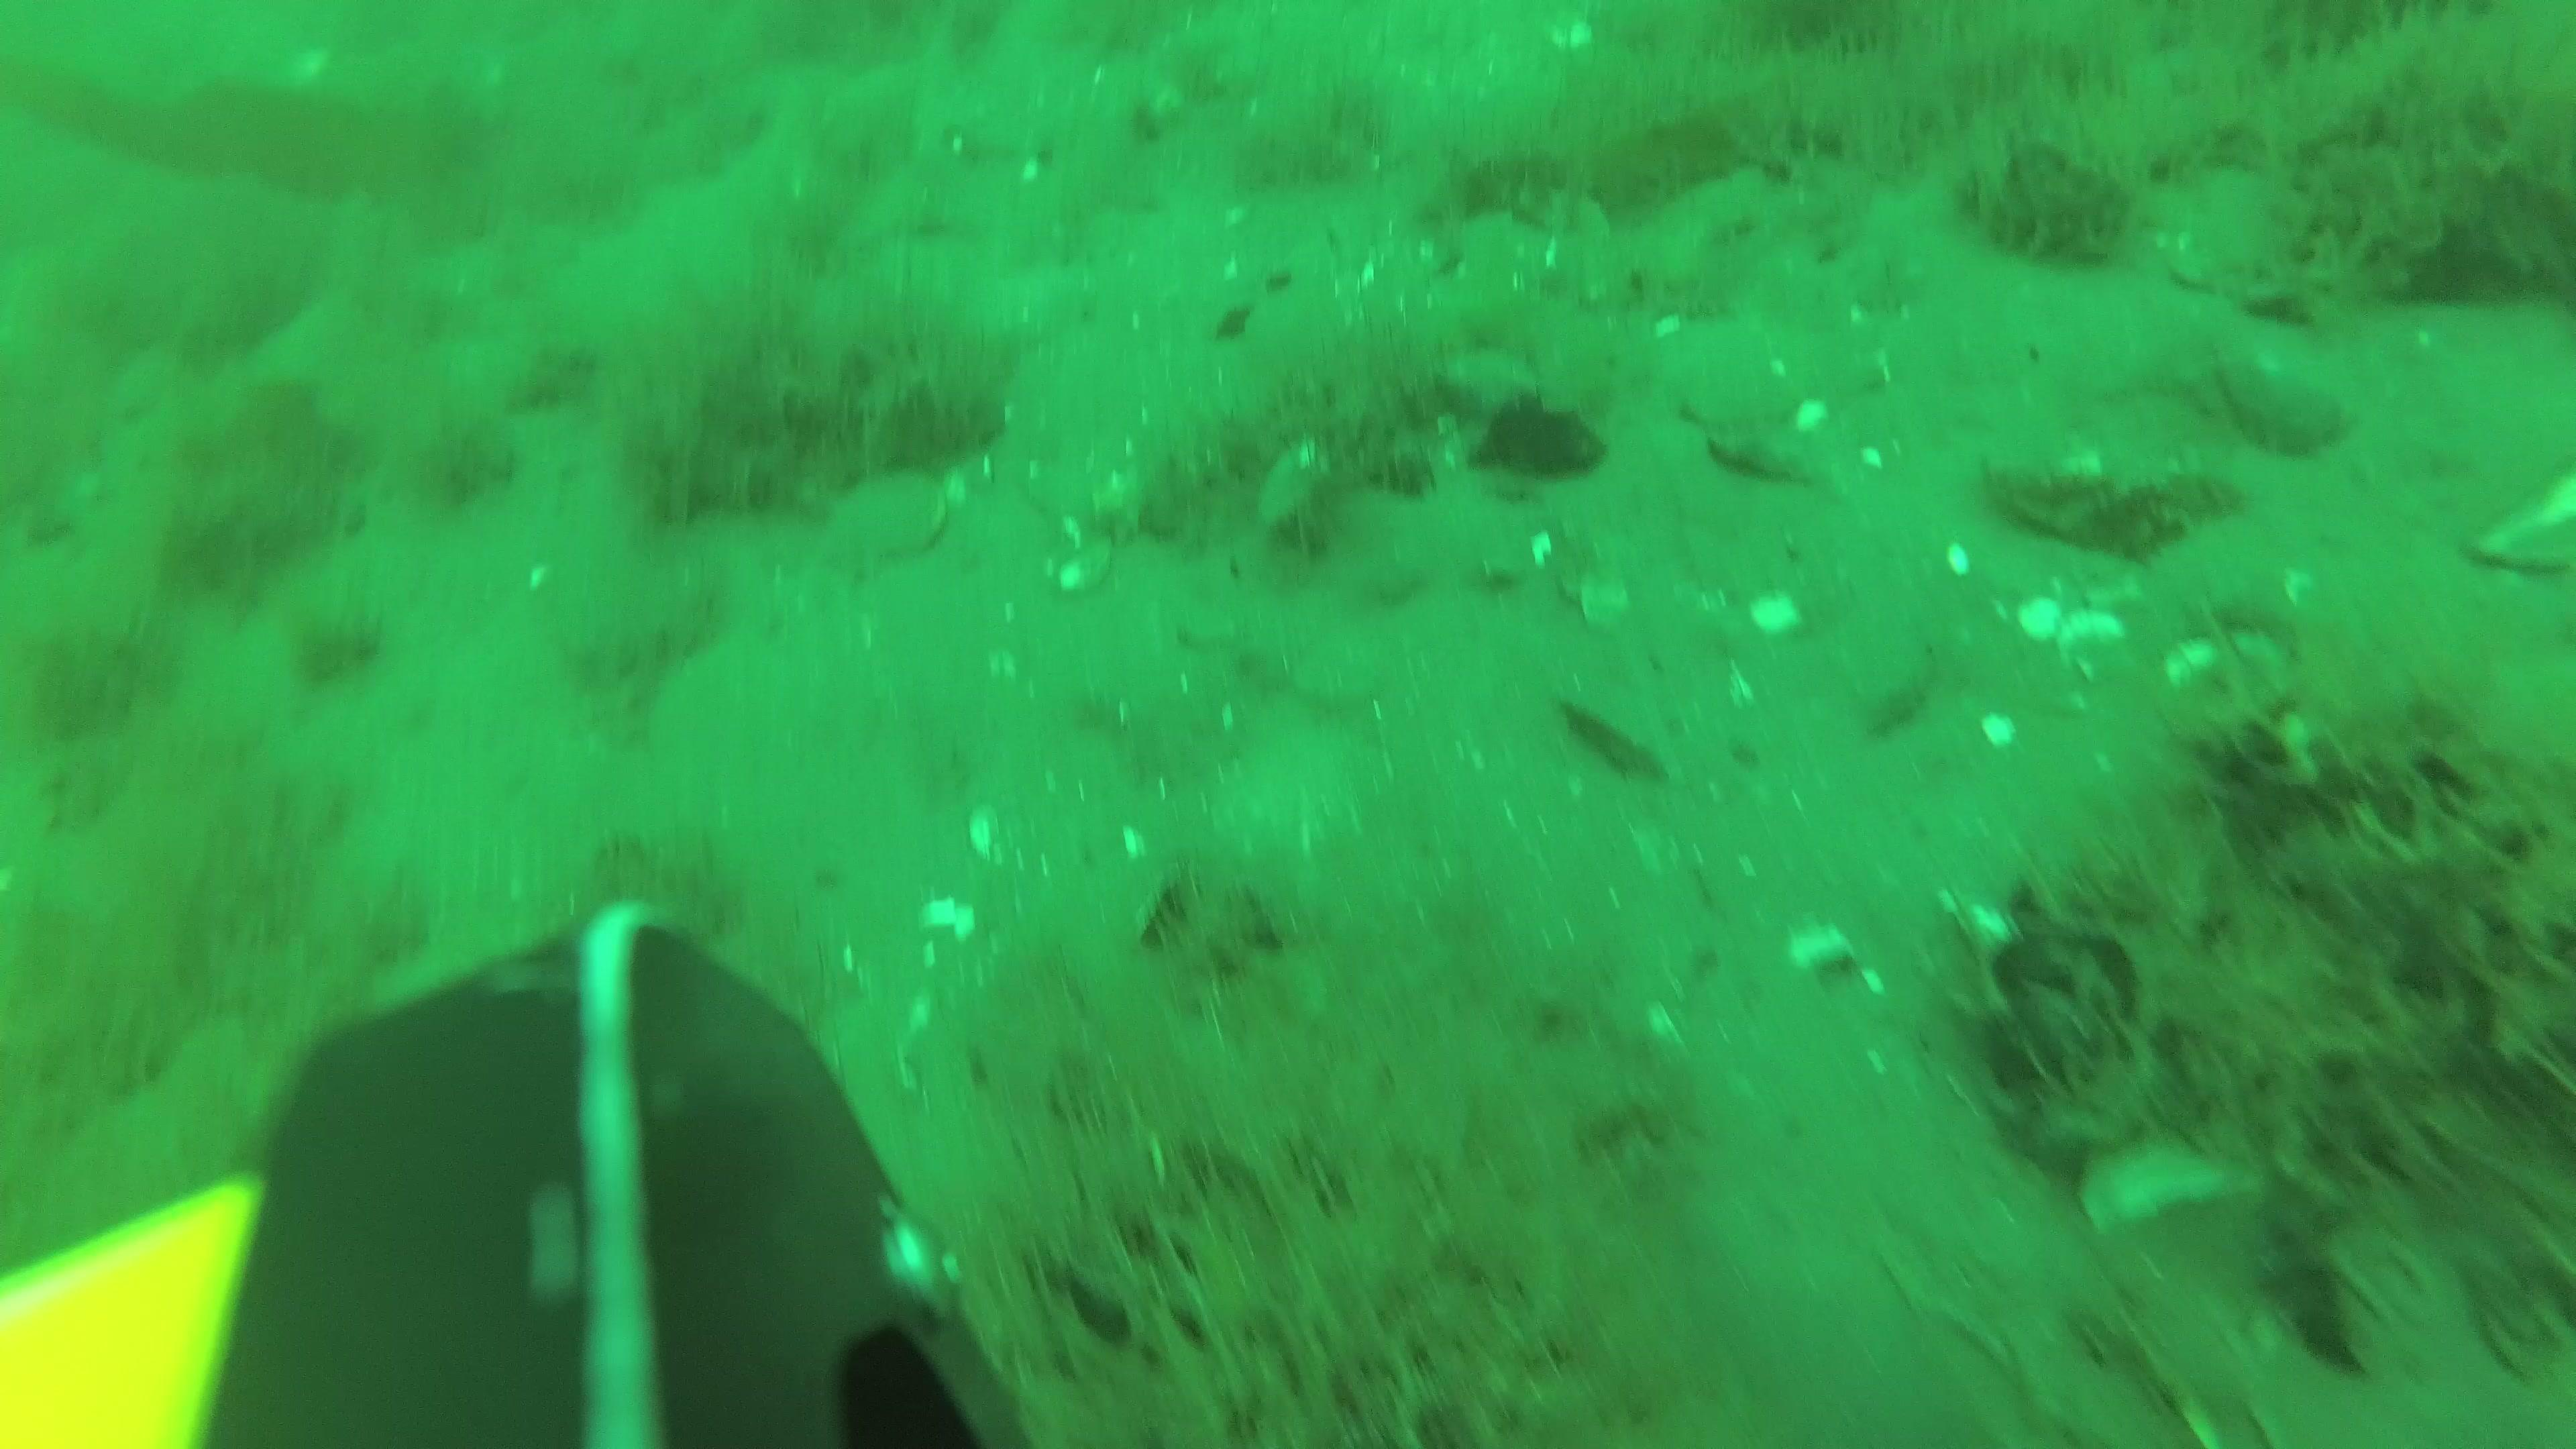scallop: (1205, 736, 1419, 855), (1683, 347, 1831, 435), (832, 464, 955, 566), (1297, 619, 1399, 701)
